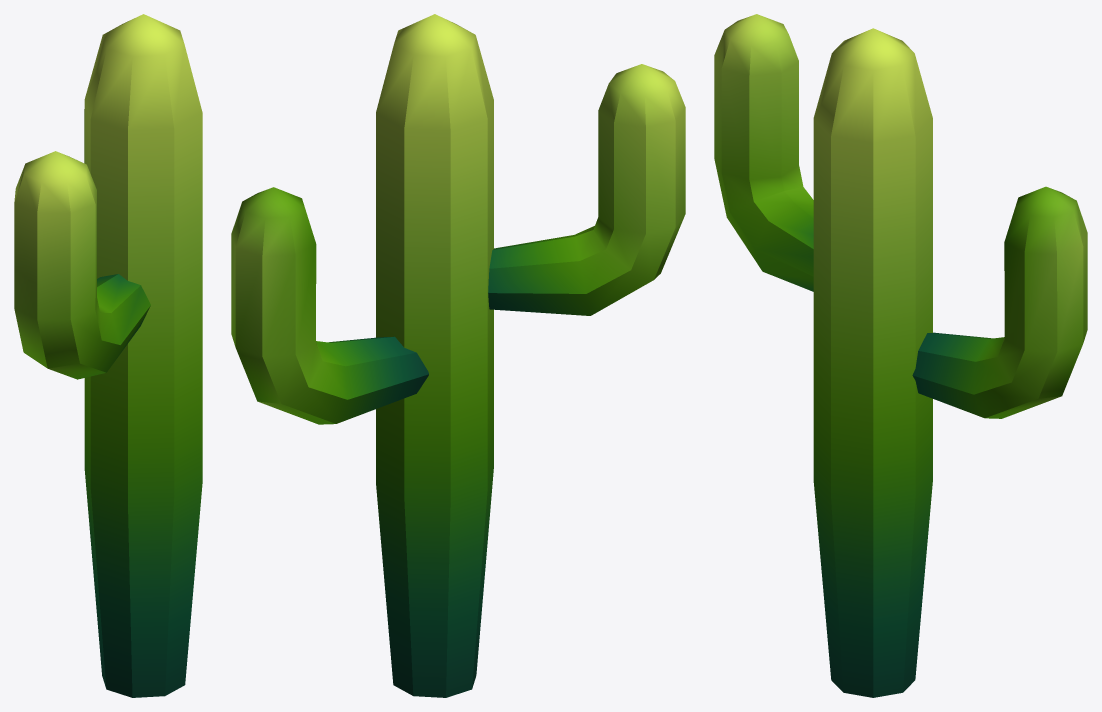
The model's file is SM_DE_Cactus_02.fbx.
The picture shows the model from 3 angles, left to right: view 1: azimuth 30°, elevation 25°; view 2: azimuth 150°, elevation 25°; view 3: azimuth 270°, elevation 25°; orthographic projection. The views are drawn at different scales.
Parts seen in each view (by area): view 1: Cactus_02; view 2: Cactus_02; view 3: Cactus_02.
Part boxes in pixels (box(x1,y1,x2,y2)): Cactus_02: box(14, 14, 202, 697); Cactus_02: box(231, 14, 685, 697); Cactus_02: box(714, 14, 1087, 697).
Bounding box in the file's own units: 0.3217 × 0.6951 × 0.3606.
